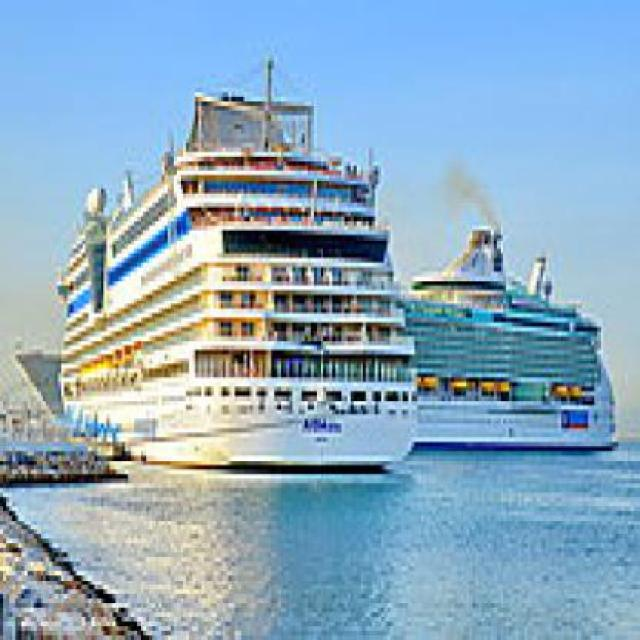cruise: (40, 47, 434, 484)
